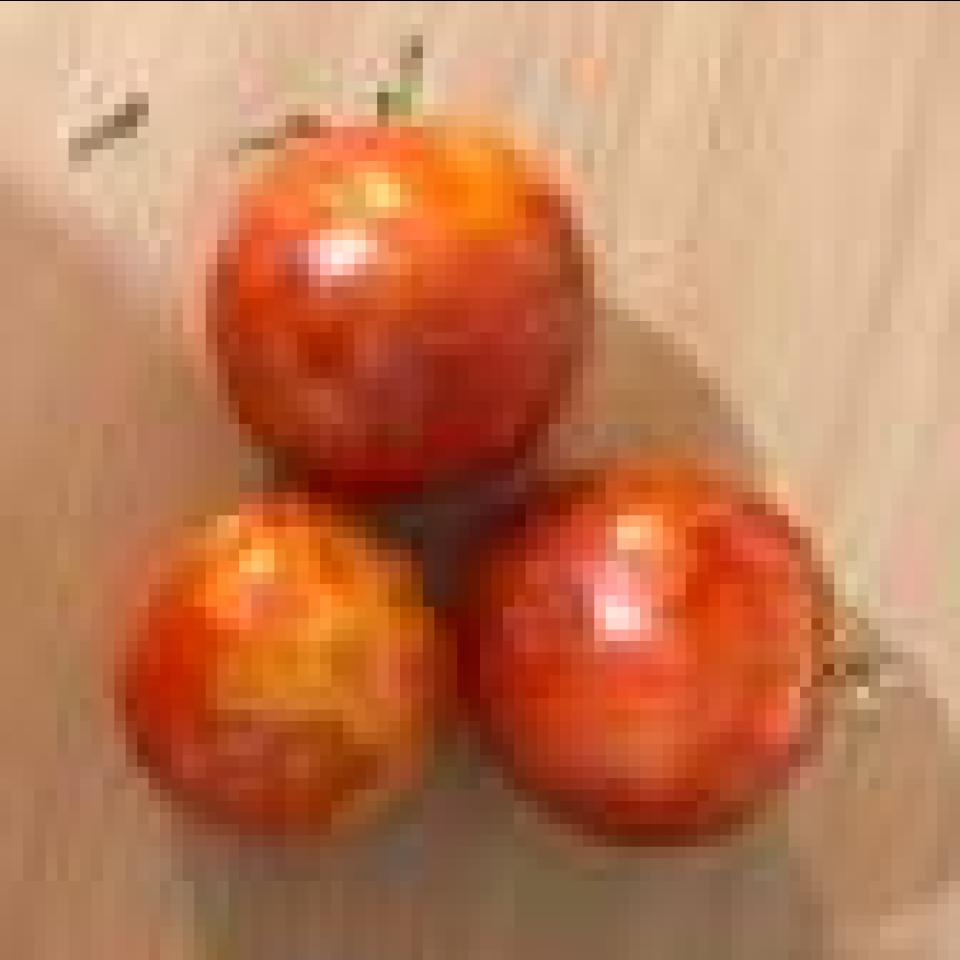Spotted wilt Virus: (466, 468, 846, 844), (211, 122, 593, 491), (123, 492, 449, 834)
